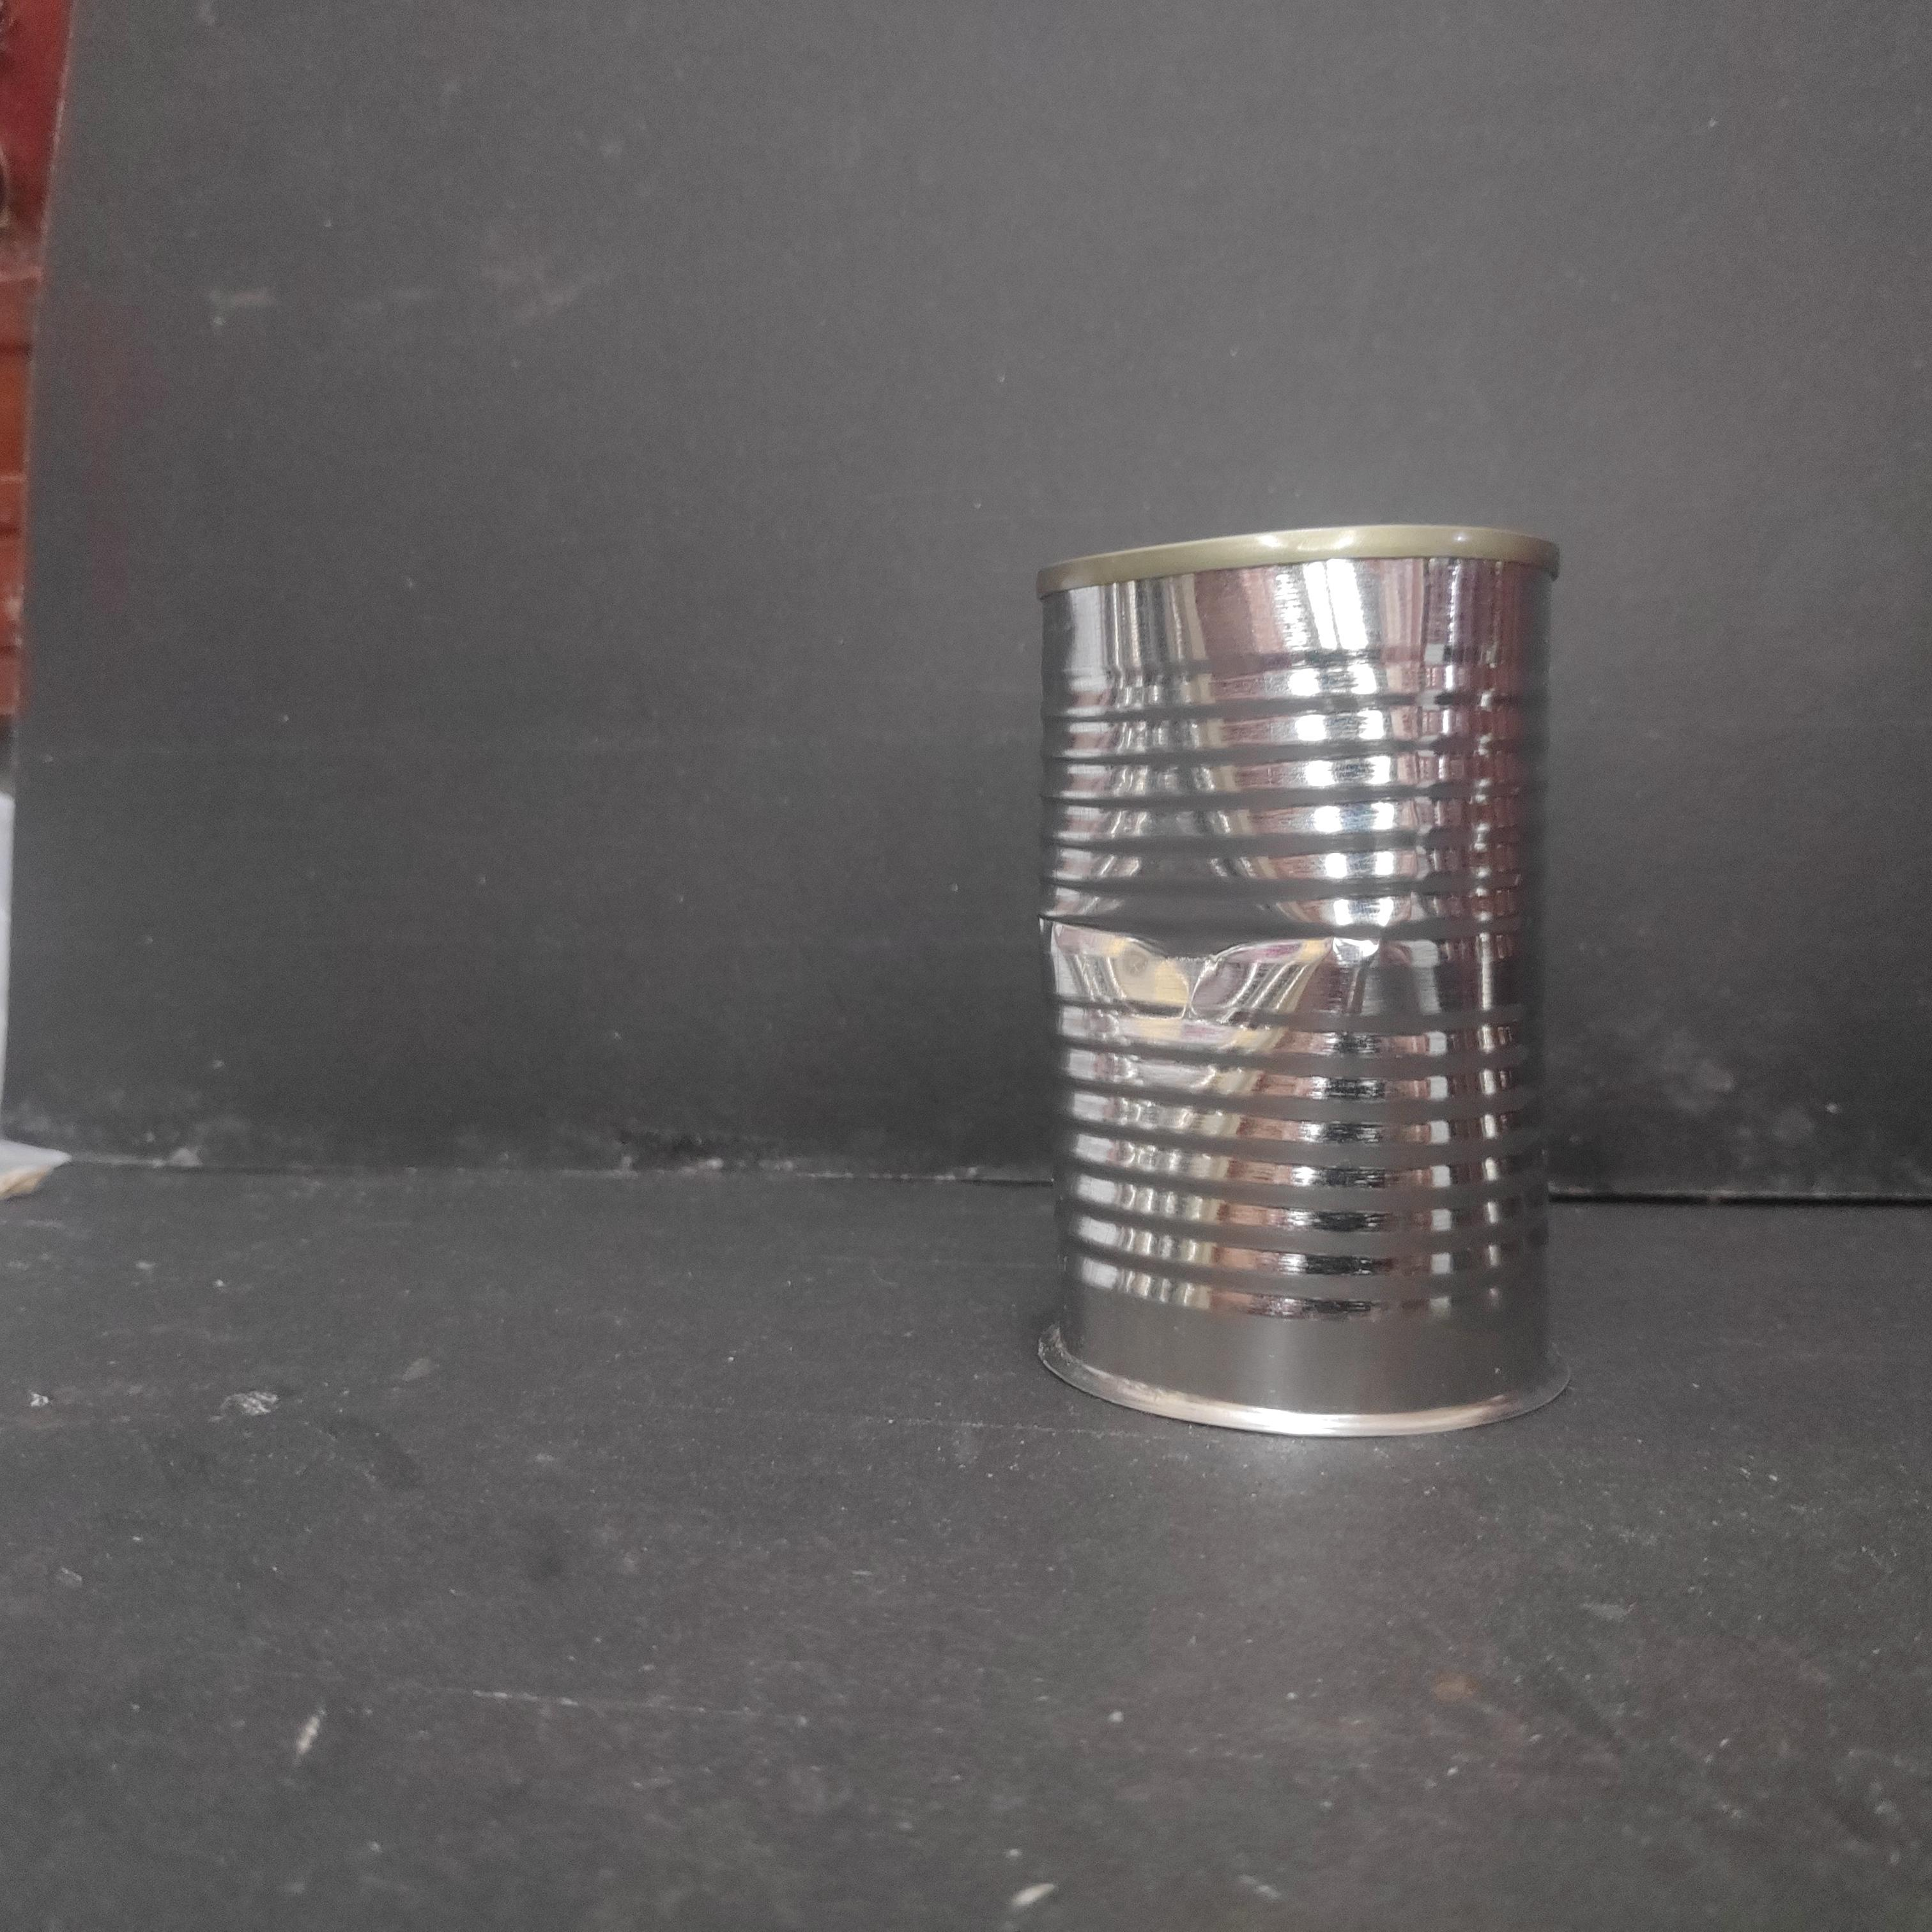Minor Defect: (1021, 508, 1569, 1445)
